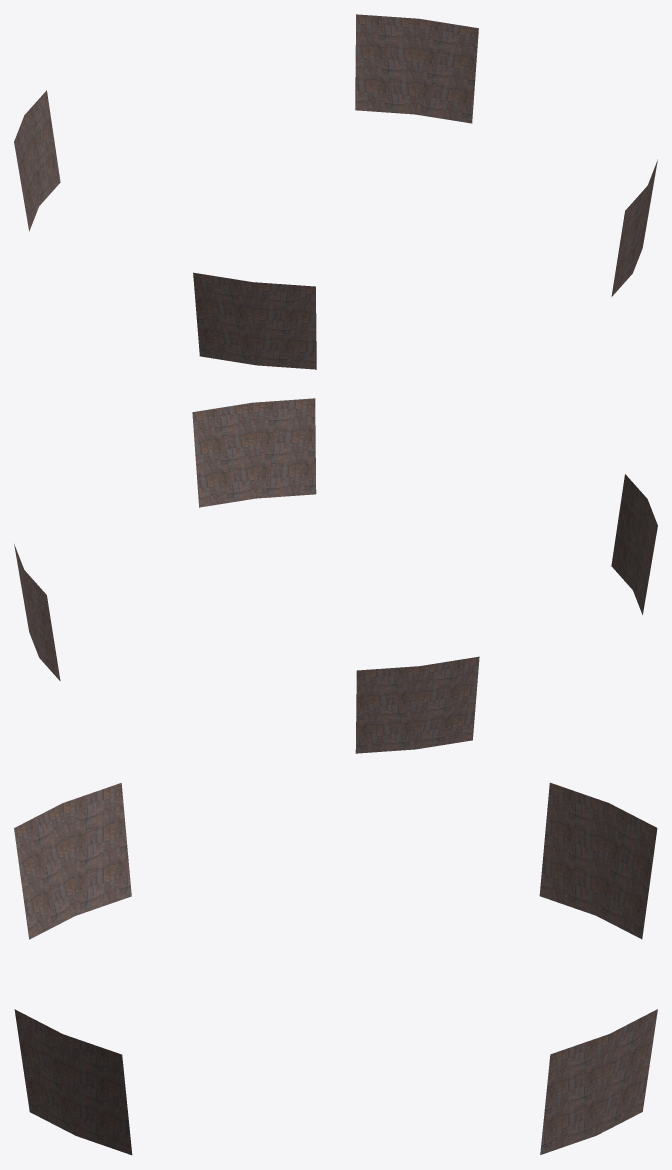
File: SM_LDFest_24_Wire.fbx
The picture shows the model from 3 angles, top to bottom: view 1: azimuth 30°, elevation 25°; view 2: azimuth 150°, elevation 25°; view 3: azimuth 270°, elevation 25°; orthographic projection. The views are drawn at different scales.
Visible parts, largest first — view 1: SM_LDFest_24_Wire; view 2: SM_LDFest_24_Wire; view 3: SM_LDFest_24_Wire.
Part boxes in pixels (<box>): SM_LDFest_24_Wire: <box>14,14,657,369</box>; SM_LDFest_24_Wire: <box>14,398,657,753</box>; SM_LDFest_24_Wire: <box>14,782,657,1155</box>.
Bounding box in the file's own units: 3499 × 643 × 3499.
